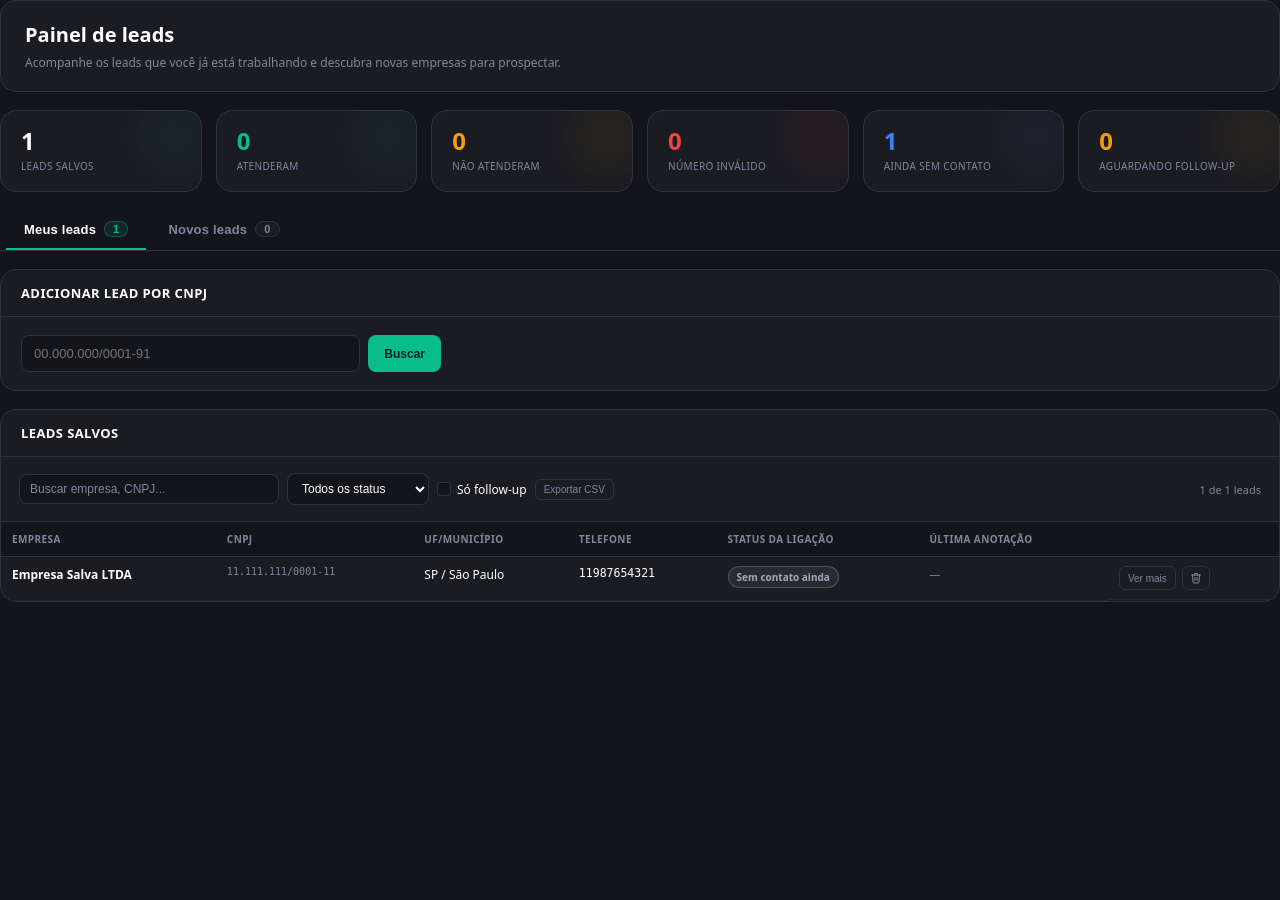
Test case: LeadsPage › erro ao excluir lead mostra toast de erro
This screenshot has width=1280, height=900.
Click the button named "Excluir lead" at (1196, 578), box [1182, 566, 1210, 590]
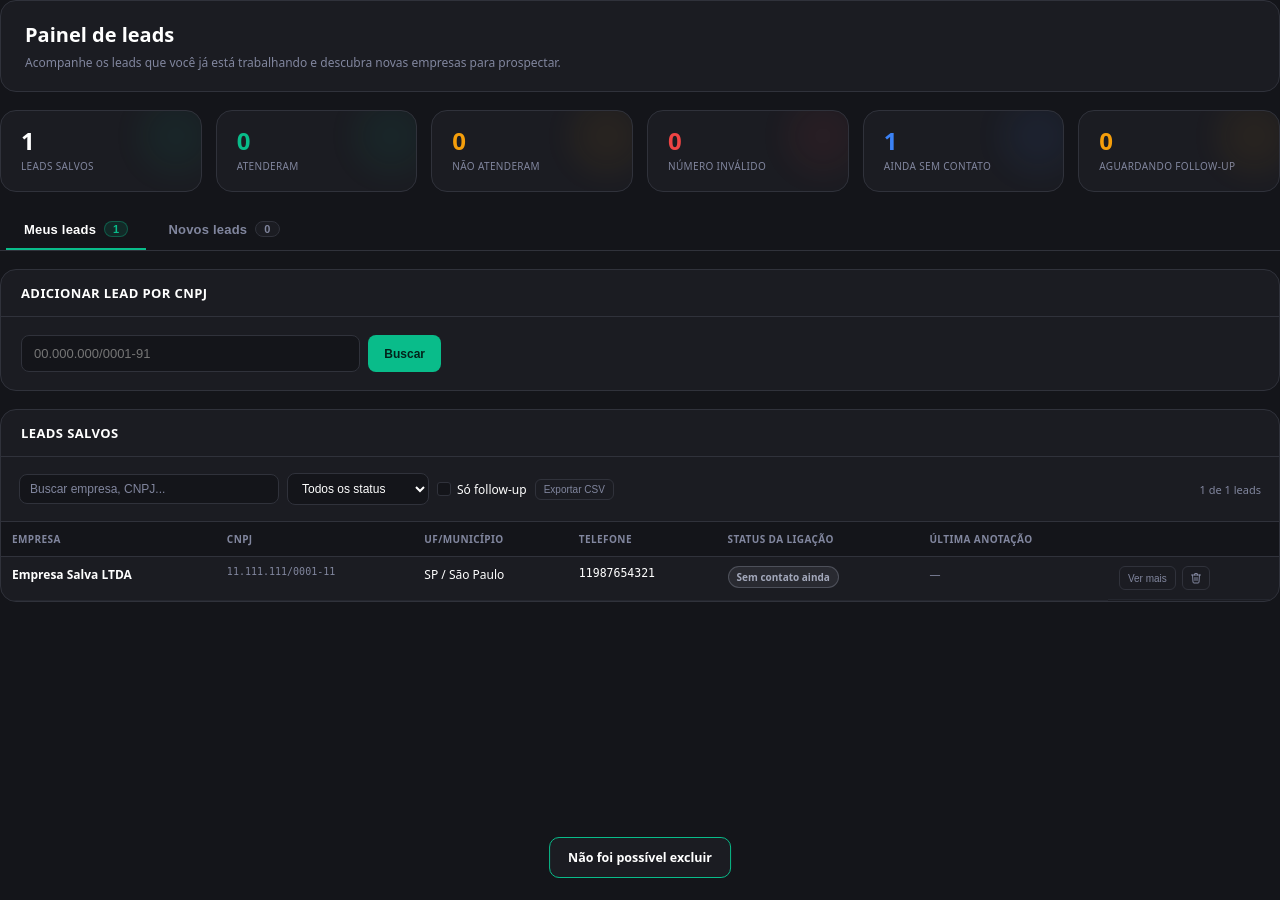
Expected: the text "Não foi possível excluir" is shown, [549, 837, 731, 878]
Expected: the text with class "show" reads "Não foi possível excluir", [568, 849, 712, 866]
